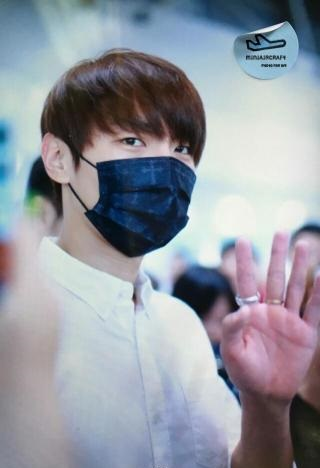face_mask: (78, 72, 195, 254)
